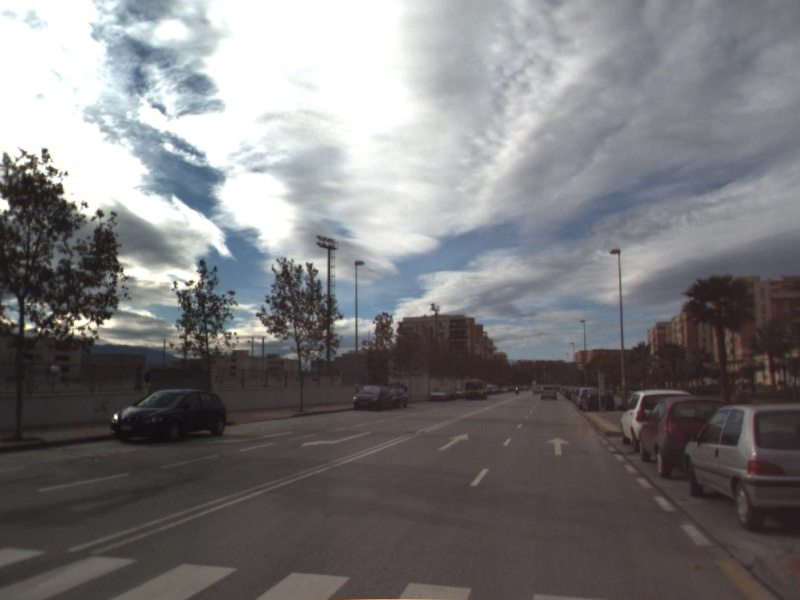STRAIGHT: (436, 431, 471, 452), (544, 435, 573, 457)
